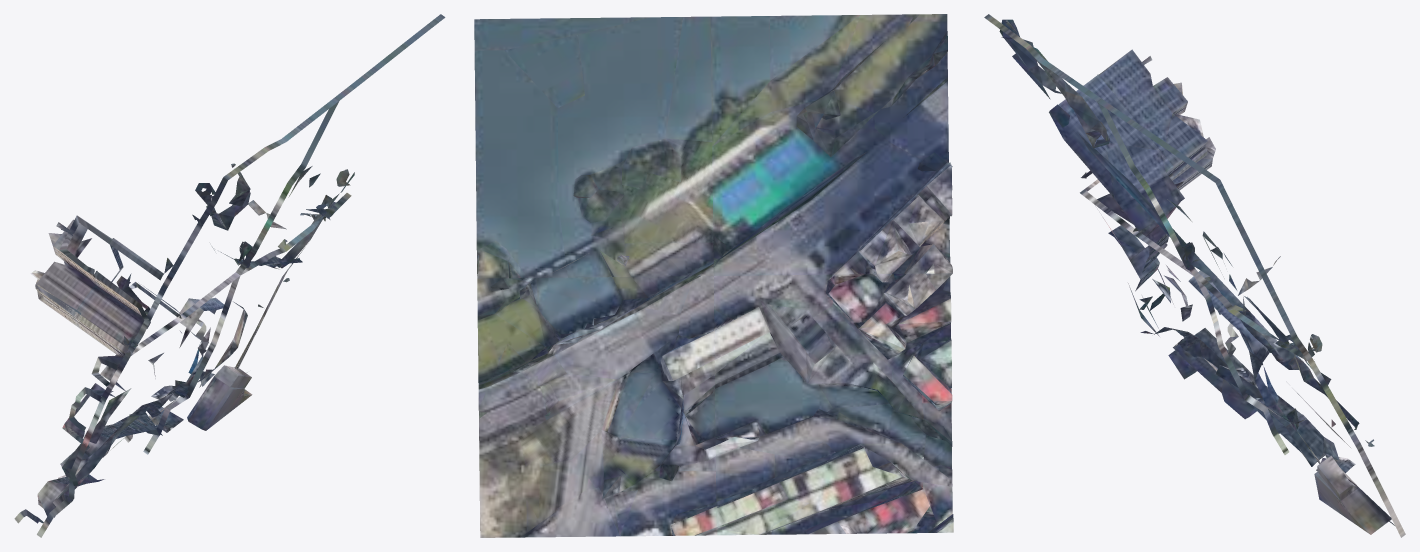
3 views of the same model, side by side, from view 1: azimuth 30°, elevation 25°; view 2: azimuth 150°, elevation 25°; view 3: azimuth 270°, elevation 25° (orthographic). The views are drawn at different scales.
Size of the model in its own units: 317 by 282 by 259.
Materials: 2 (2 with a texture image).
